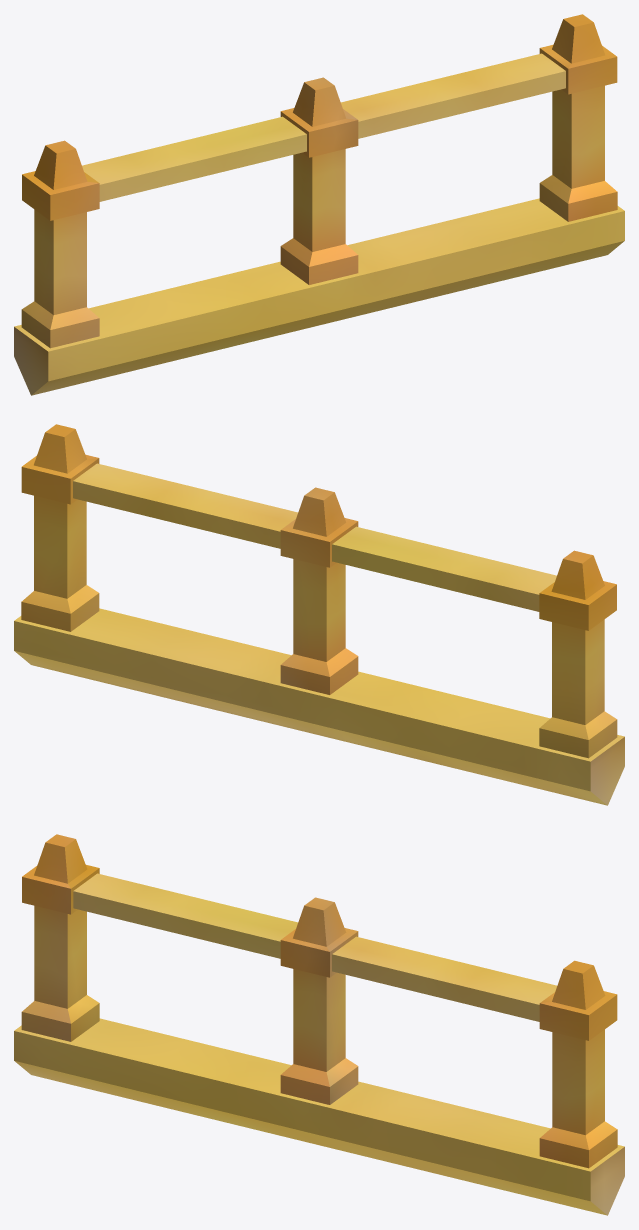
The model's file is mega-pack-cube-210.glb.
3 views of the same model, one above another, from view 1: azimuth 30°, elevation 25°; view 2: azimuth 150°, elevation 25°; view 3: azimuth 330°, elevation 25° (orthographic).
Visible parts, largest first — view 1: Cube.210; view 2: Cube.210; view 3: Cube.210.
Part boxes in pixels (x1,y1,x2,y2): Cube.210: (14,14,624,395); Cube.210: (14,424,624,805); Cube.210: (14,834,624,1215).
Bounding box in the file's own units: 1.68 × 0.6707 × 0.1725.
1 material, 1 textured.
